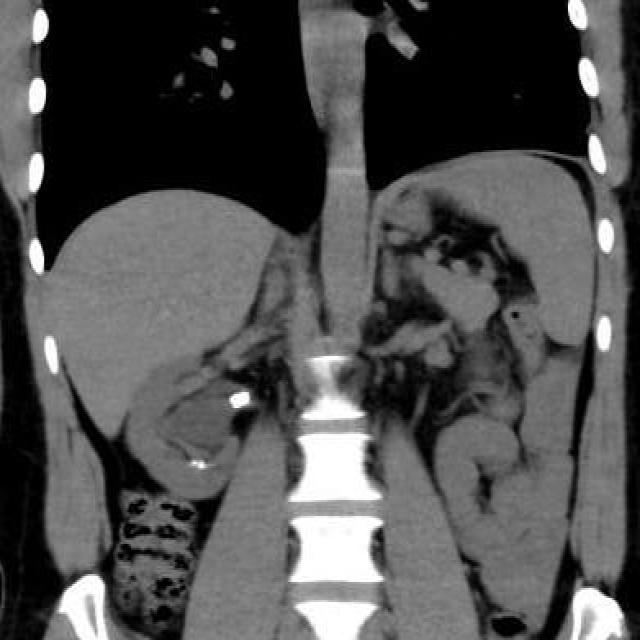Tas_Var: (228, 388, 250, 412), (188, 458, 198, 468), (197, 460, 207, 470)
